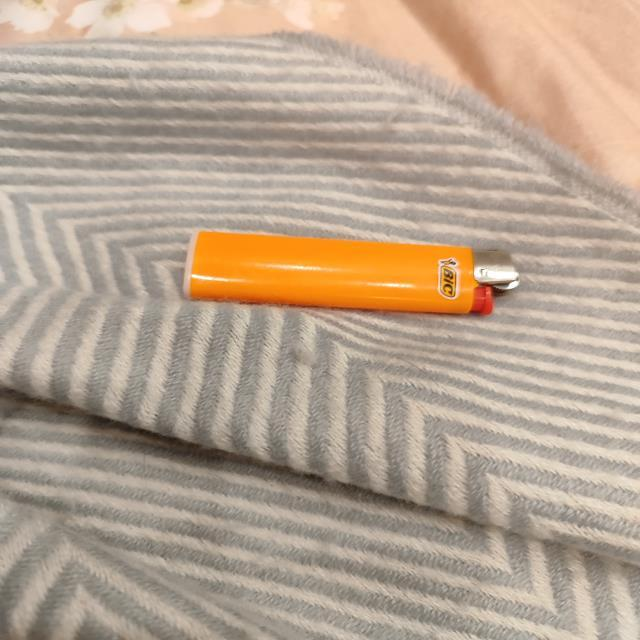lighter: (184, 231, 518, 314)
